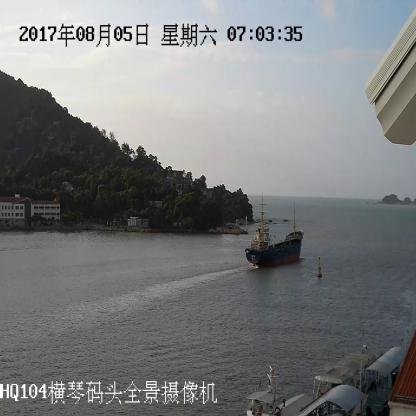Bulk Carrier: (244, 200, 304, 268)
